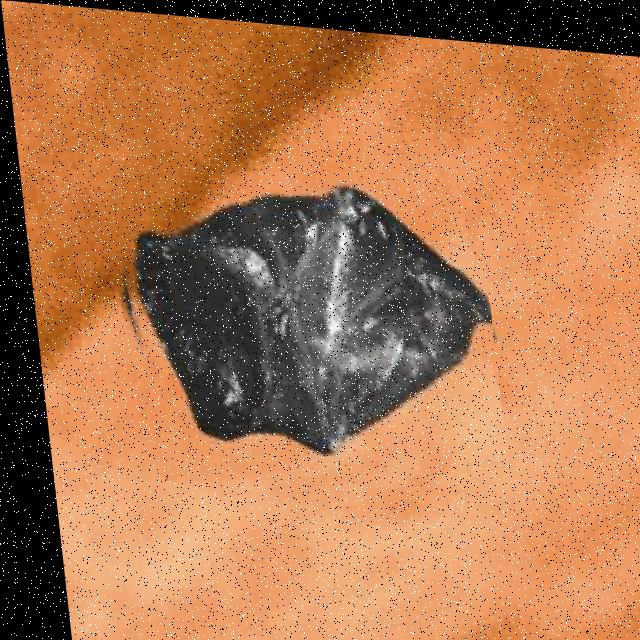litter: (93, 148, 500, 494)
